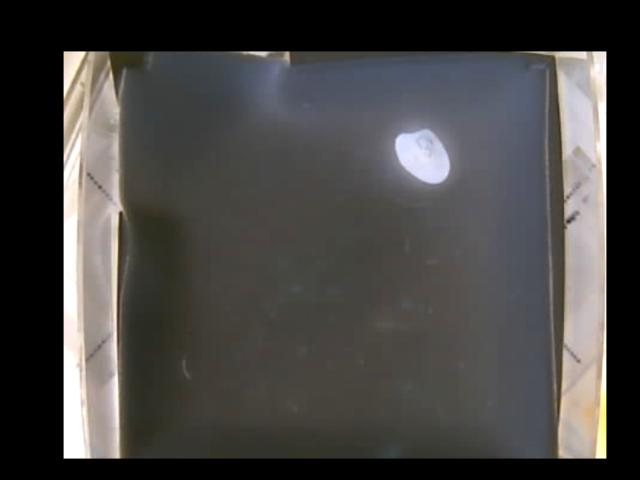Pebble: (396, 131, 446, 182)
